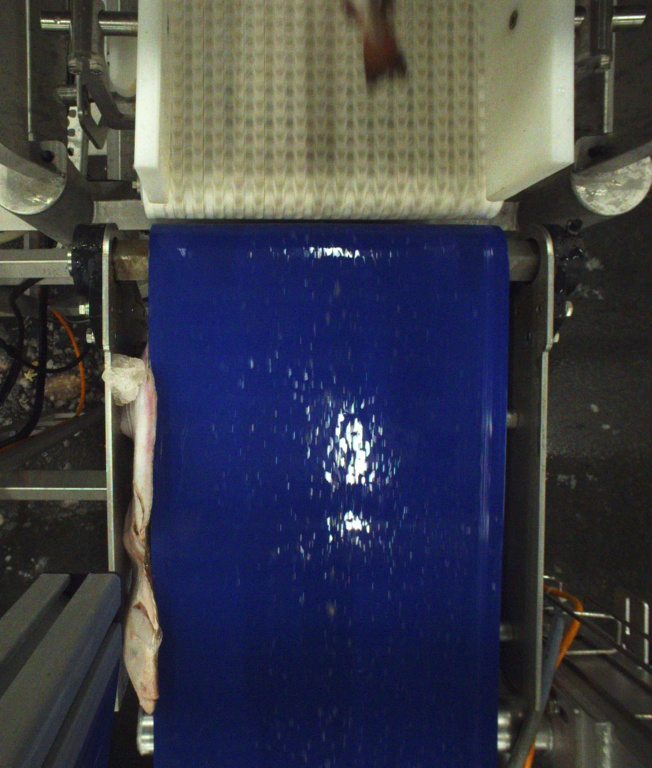BIB: (342, 0, 403, 81)
